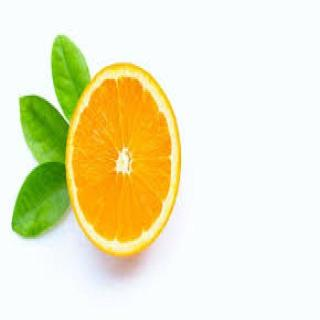orange: (56, 39, 180, 269)
